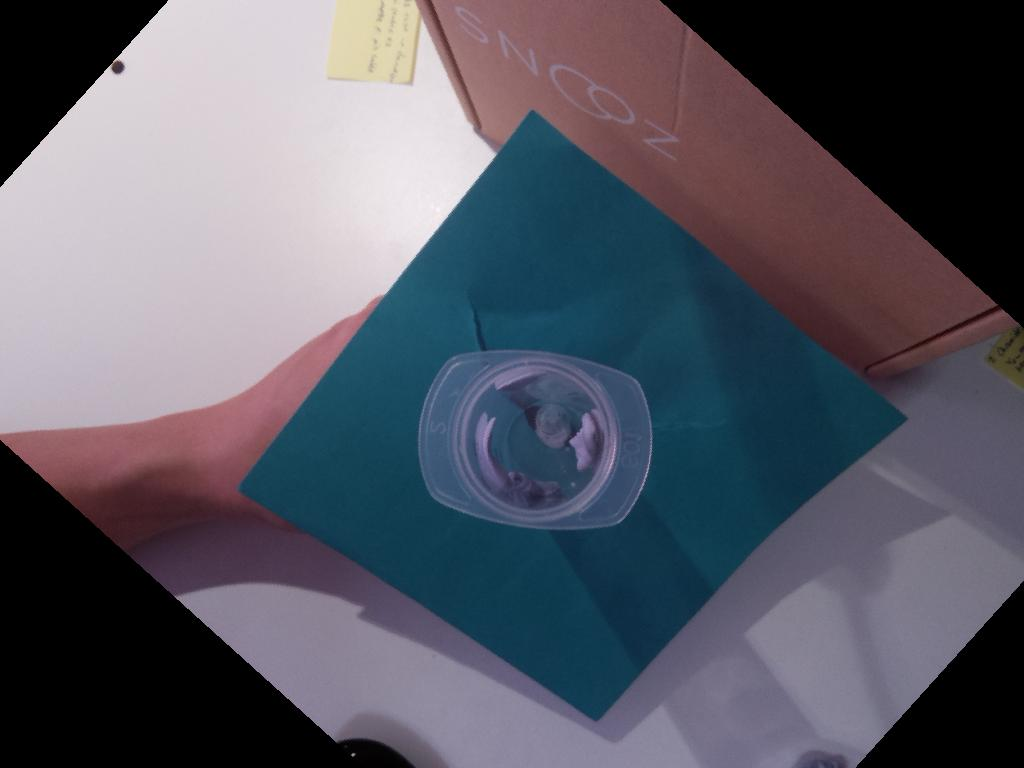dirty: (417, 348, 653, 527)
